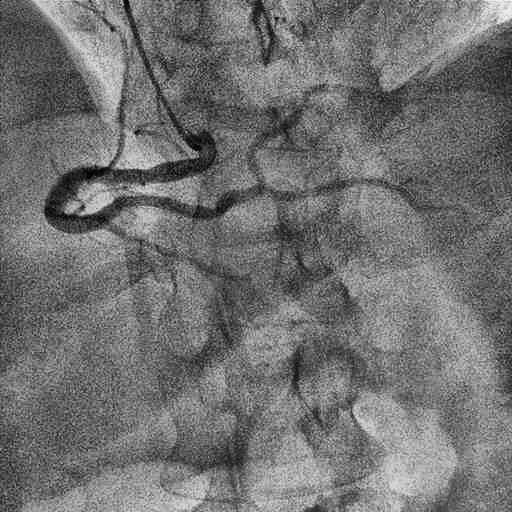pborca: (248, 83, 368, 186)
pda: (262, 177, 458, 212)
rca: (44, 149, 262, 234)
